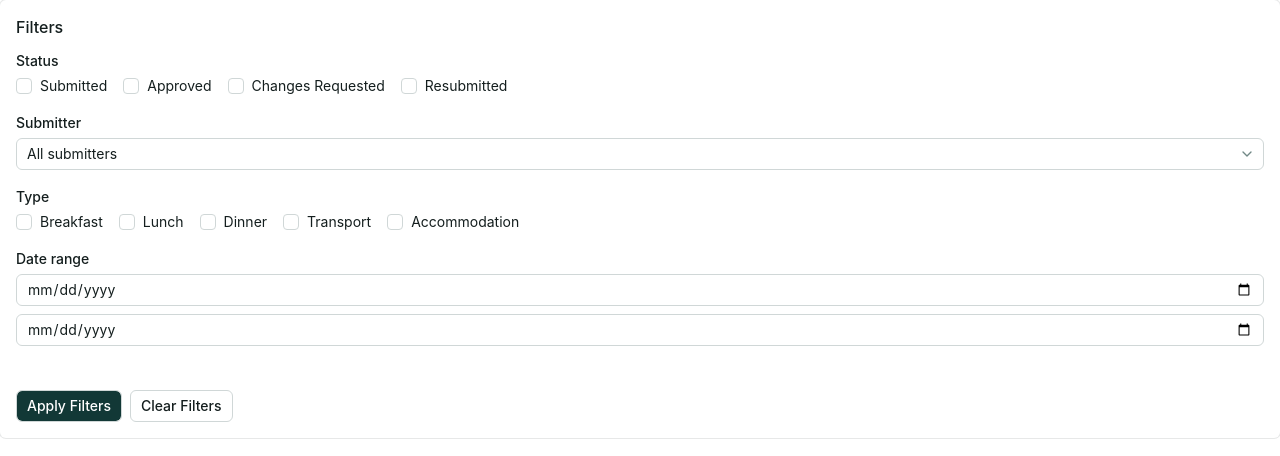
Test: FilterPanel › does not apply when only one date is set
The image size is (1280, 456).
Type "2025-07-01" into the date field named "From date".
click(640, 290); type("2025-07-01")  # box x1=16 y1=274 x2=1264 y2=306
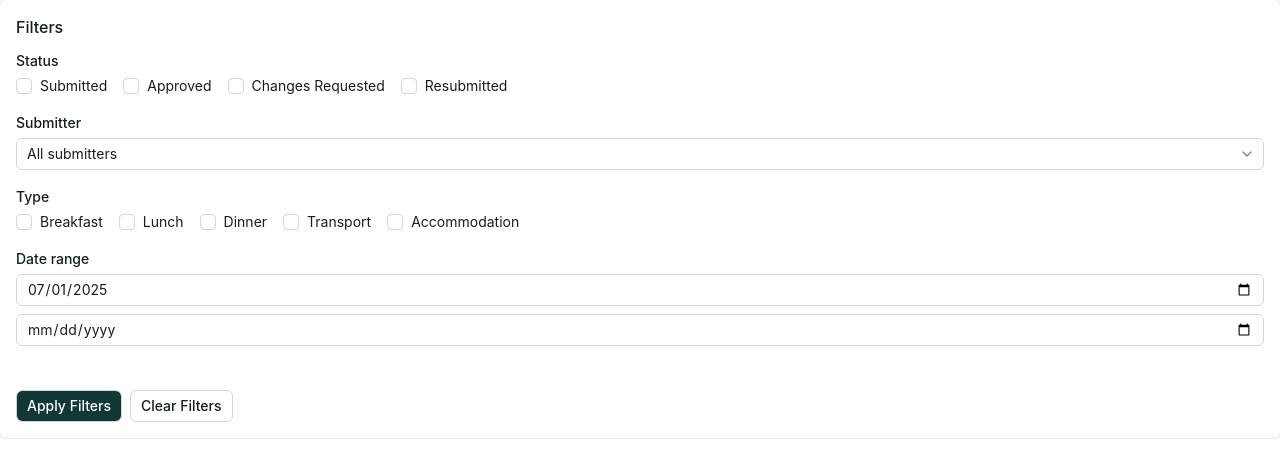
Click the button "Apply Filters".
click(69, 406)  # box x1=16 y1=390 x2=122 y2=422
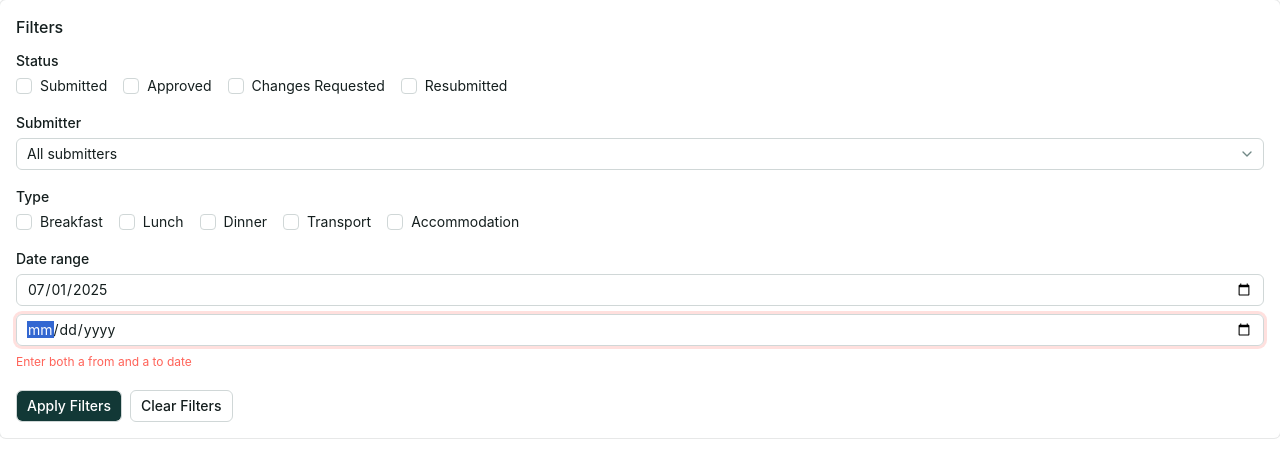
Expected: the text "Enter both a from and a to date" is shown, x1=16 y1=354 x2=192 y2=369
